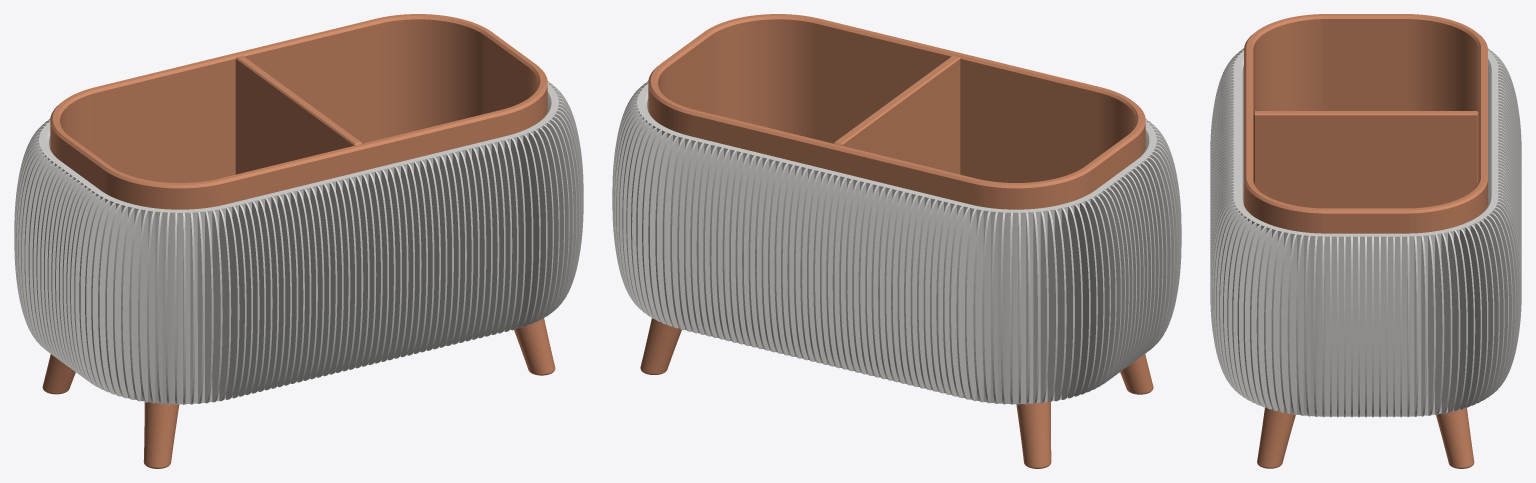
Rendered from stria_quadrum_g.glb.
3 renders of one model, left to right at view 1: azimuth 30°, elevation 25°; view 2: azimuth 150°, elevation 25°; view 3: azimuth 270°, elevation 25°, orthographic. The views are drawn at different scales.
Visible parts, largest first — view 1: parte_1, parte_2; view 2: parte_1, parte_2; view 3: parte_1, parte_2.
Boxes of the visible parts, x1,y1,x2,y2 form: parte_1: [14, 81, 583, 404]; parte_2: [42, 14, 555, 468]; parte_1: [612, 81, 1181, 404]; parte_2: [640, 14, 1153, 468]; parte_1: [1210, 48, 1521, 417]; parte_2: [1244, 14, 1487, 468].
Bounding box in the file's own units: 0.231 × 0.1253 × 0.134.
